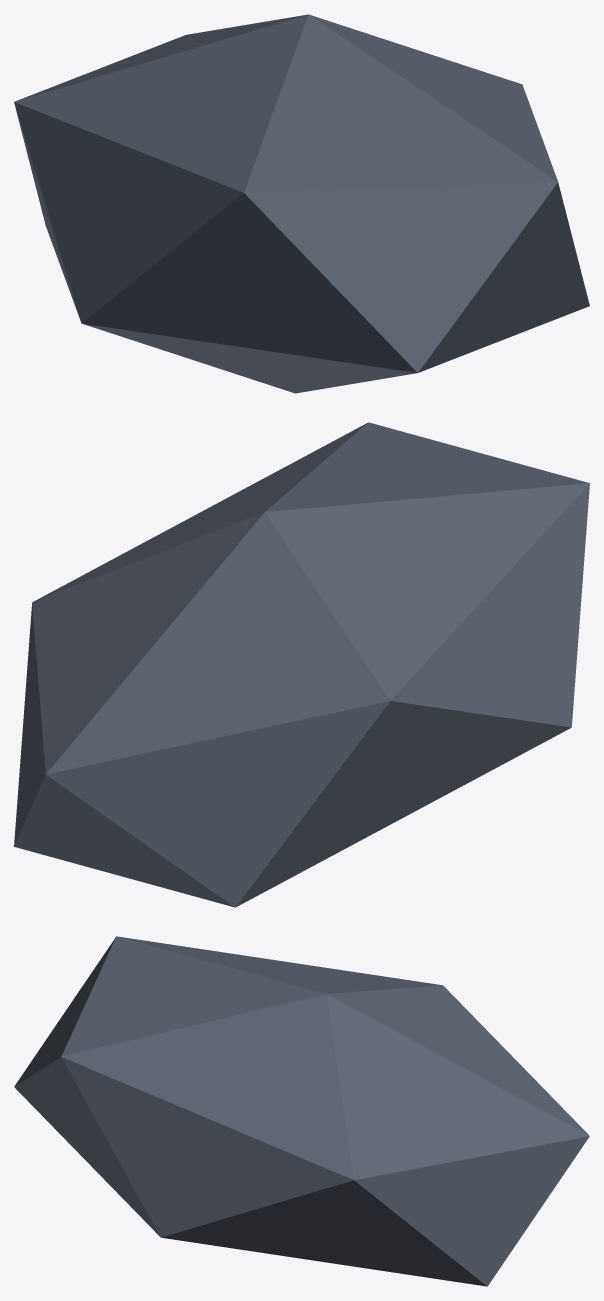
File: EXT_SouthCliff_08_Shard_0.glb
3 renders of one model, top to bottom at view 1: azimuth 30°, elevation 25°; view 2: azimuth 150°, elevation 25°; view 3: azimuth 270°, elevation 25°, orthographic. The views are drawn at different scales.
Visible parts, largest first — view 1: EXT_SouthCliff_08_Shard_0; view 2: EXT_SouthCliff_08_Shard_0; view 3: EXT_SouthCliff_08_Shard_0.
Part boxes in pixels (bbox=[...]): EXT_SouthCliff_08_Shard_0: bbox=[14, 14, 589, 393]; EXT_SouthCliff_08_Shard_0: bbox=[14, 422, 589, 907]; EXT_SouthCliff_08_Shard_0: bbox=[14, 936, 589, 1286].
Size of the model in its own units: 1.58 by 1.01 by 2.1.
